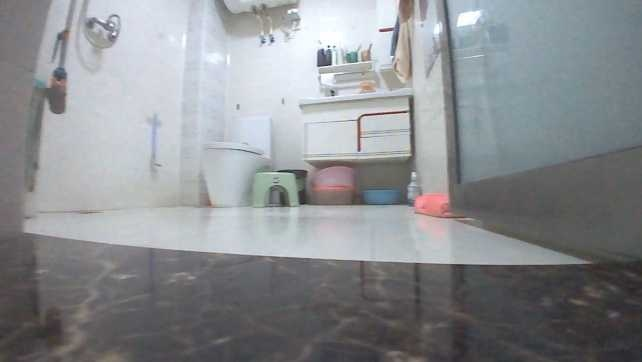door_sill: (0, 230, 639, 361)
plastic_stool: (250, 169, 299, 207)
toilet: (198, 112, 269, 205)
washstand: (297, 86, 414, 163)
